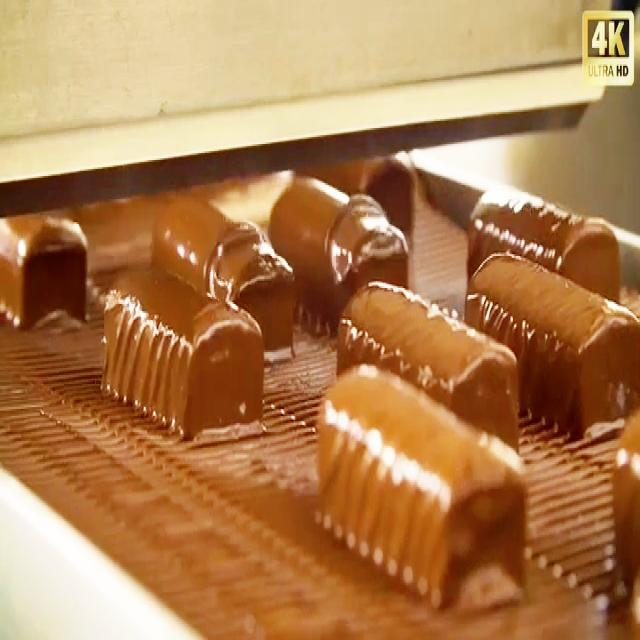Choco: (313, 361, 528, 608), (334, 276, 520, 452), (464, 247, 638, 432), (104, 262, 268, 437), (148, 186, 302, 367), (268, 164, 411, 336), (469, 180, 620, 319), (0, 213, 90, 336)
